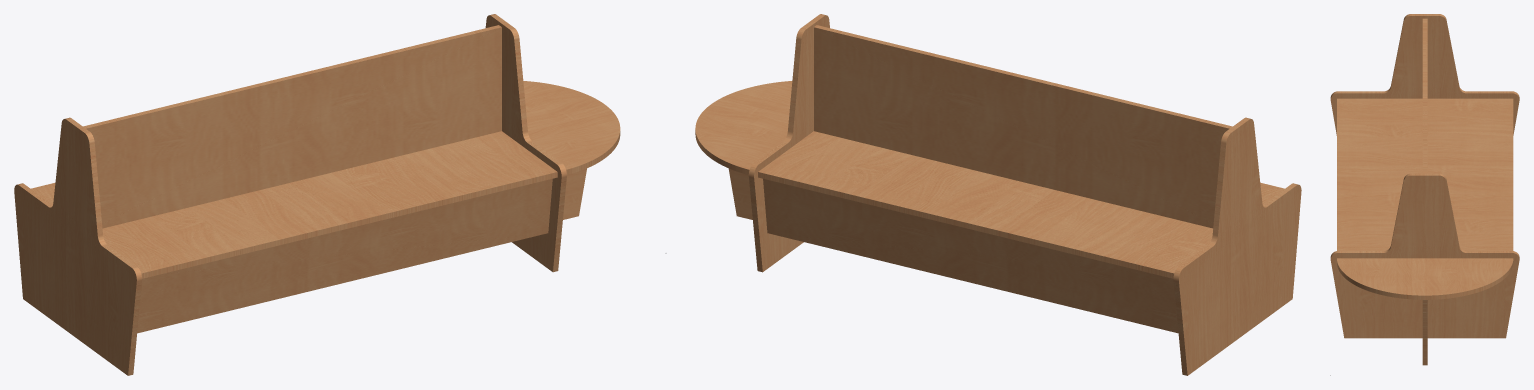
Rendered from divan_cheburashka_2_s_odnim_bok_sid_derevo.glb.
3 renders of one model, left to right at view 1: azimuth 30°, elevation 25°; view 2: azimuth 150°, elevation 25°; view 3: azimuth 270°, elevation 25°, orthographic. The views are drawn at different scales.
Visible parts, largest first — view 1: Shape_IndexedFaceSet.002, Shape_IndexedFaceSet.005, Shape_IndexedFaceSet.004, Shape_IndexedFaceSet.006, Shape_IndexedFaceSet, Shape_IndexedFaceSet.007, Shape_IndexedFaceSet.001; view 2: Shape_IndexedFaceSet.002, Shape_IndexedFaceSet.005, Shape_IndexedFaceSet.003, Shape_IndexedFaceSet.006, Shape_IndexedFaceSet, Shape_IndexedFaceSet.007, Shape_IndexedFaceSet.001; view 3: Shape_IndexedFaceSet.005, Shape_IndexedFaceSet.007, Shape_IndexedFaceSet, Shape_IndexedFaceSet.006, Shape_IndexedFaceSet.002, Shape_IndexedFaceSet.001.
Part boxes in pixels (bbox=[...]): Shape_IndexedFaceSet.002: bbox=[83, 25, 501, 228]; Shape_IndexedFaceSet.005: bbox=[31, 131, 557, 278]; Shape_IndexedFaceSet.004: bbox=[137, 179, 552, 333]; Shape_IndexedFaceSet.006: bbox=[14, 117, 141, 375]; Shape_IndexedFaceSet: bbox=[523, 81, 620, 174]; Shape_IndexedFaceSet.007: bbox=[485, 14, 566, 272]; Shape_IndexedFaceSet.001: bbox=[563, 168, 586, 219]; Shape_IndexedFaceSet.002: bbox=[814, 25, 1232, 228]; Shape_IndexedFaceSet.005: bbox=[758, 131, 1284, 278]; Shape_IndexedFaceSet.003: bbox=[763, 178, 1178, 333]; Shape_IndexedFaceSet.006: bbox=[1173, 117, 1301, 375]; Shape_IndexedFaceSet: bbox=[695, 81, 792, 174]; Shape_IndexedFaceSet.007: bbox=[748, 14, 829, 272]; Shape_IndexedFaceSet.001: bbox=[728, 168, 752, 219]; Shape_IndexedFaceSet.005: bbox=[1337, 98, 1513, 250]; Shape_IndexedFaceSet.007: bbox=[1330, 173, 1519, 338]; Shape_IndexedFaceSet: bbox=[1337, 258, 1513, 299]; Shape_IndexedFaceSet.006: bbox=[1330, 14, 1519, 135]; Shape_IndexedFaceSet.002: bbox=[1422, 18, 1427, 173]; Shape_IndexedFaceSet.001: bbox=[1422, 300, 1427, 365].
Size of the model in its own units: 1601 by 611 by 643.
9 materials, 8 textured.
